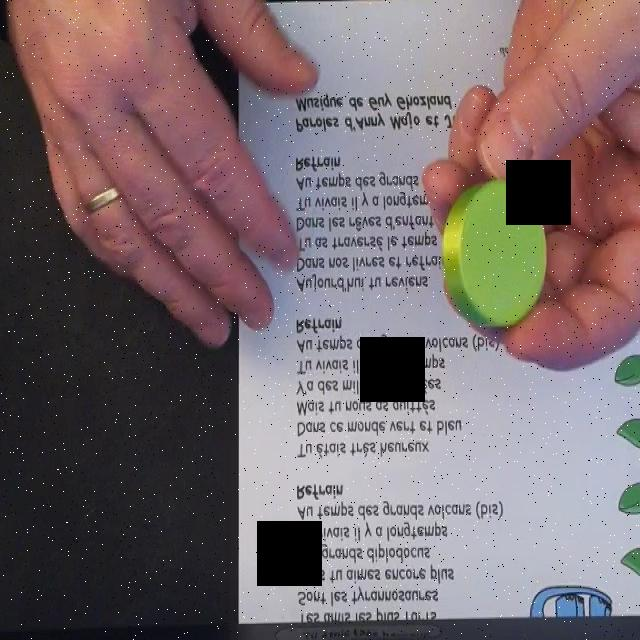round: (442, 179, 548, 328)
